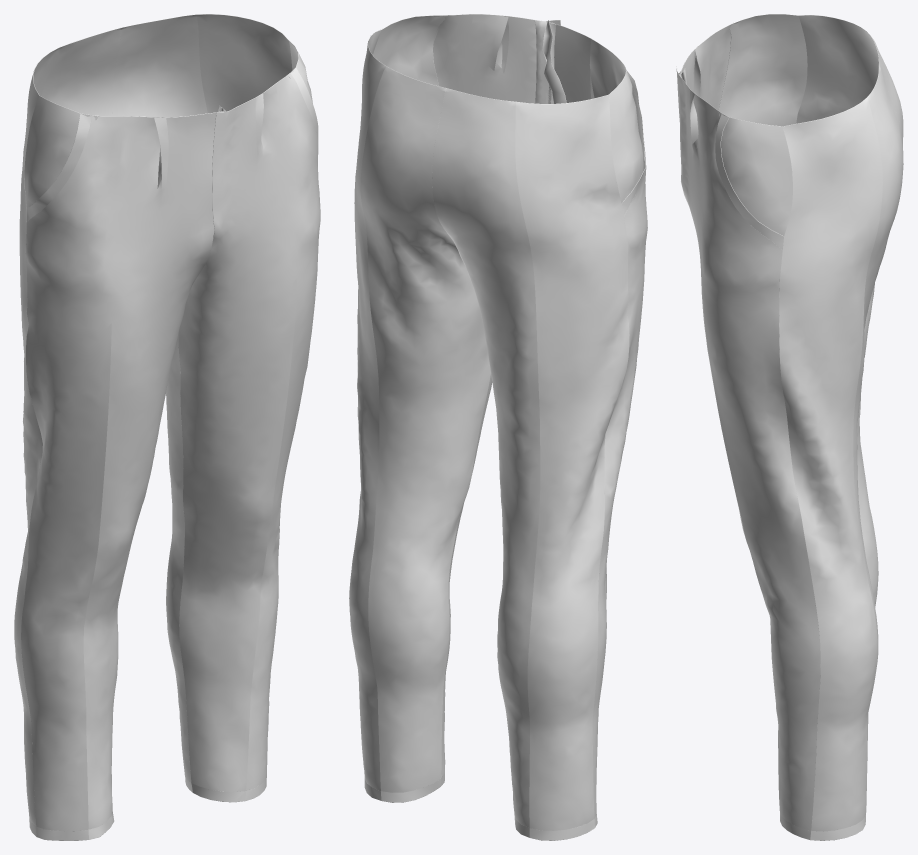
File: one_pleat_front.glb
The picture shows the model from 3 angles, left to right: view 1: azimuth 30°, elevation 25°; view 2: azimuth 150°, elevation 25°; view 3: azimuth 270°, elevation 25°; orthographic projection. The views are drawn at different scales.
Visible parts, largest first — view 1: One Pleat-Front_Node (×8); view 2: One Pleat-Front_Node (×10); view 3: One Pleat-Front_Node (×8).
Boxes of the visible parts, bbox=[...] form: One Pleat-Front_Node (×8): bbox=[14, 14, 320, 840]; One Pleat-Front_Node (×10): bbox=[349, 14, 647, 840]; One Pleat-Front_Node (×8): bbox=[676, 14, 903, 840].
Bounding box in the file's own units: 37.01 × 96.05 × 27.24.
Materials: 56 (4 with a texture image).
